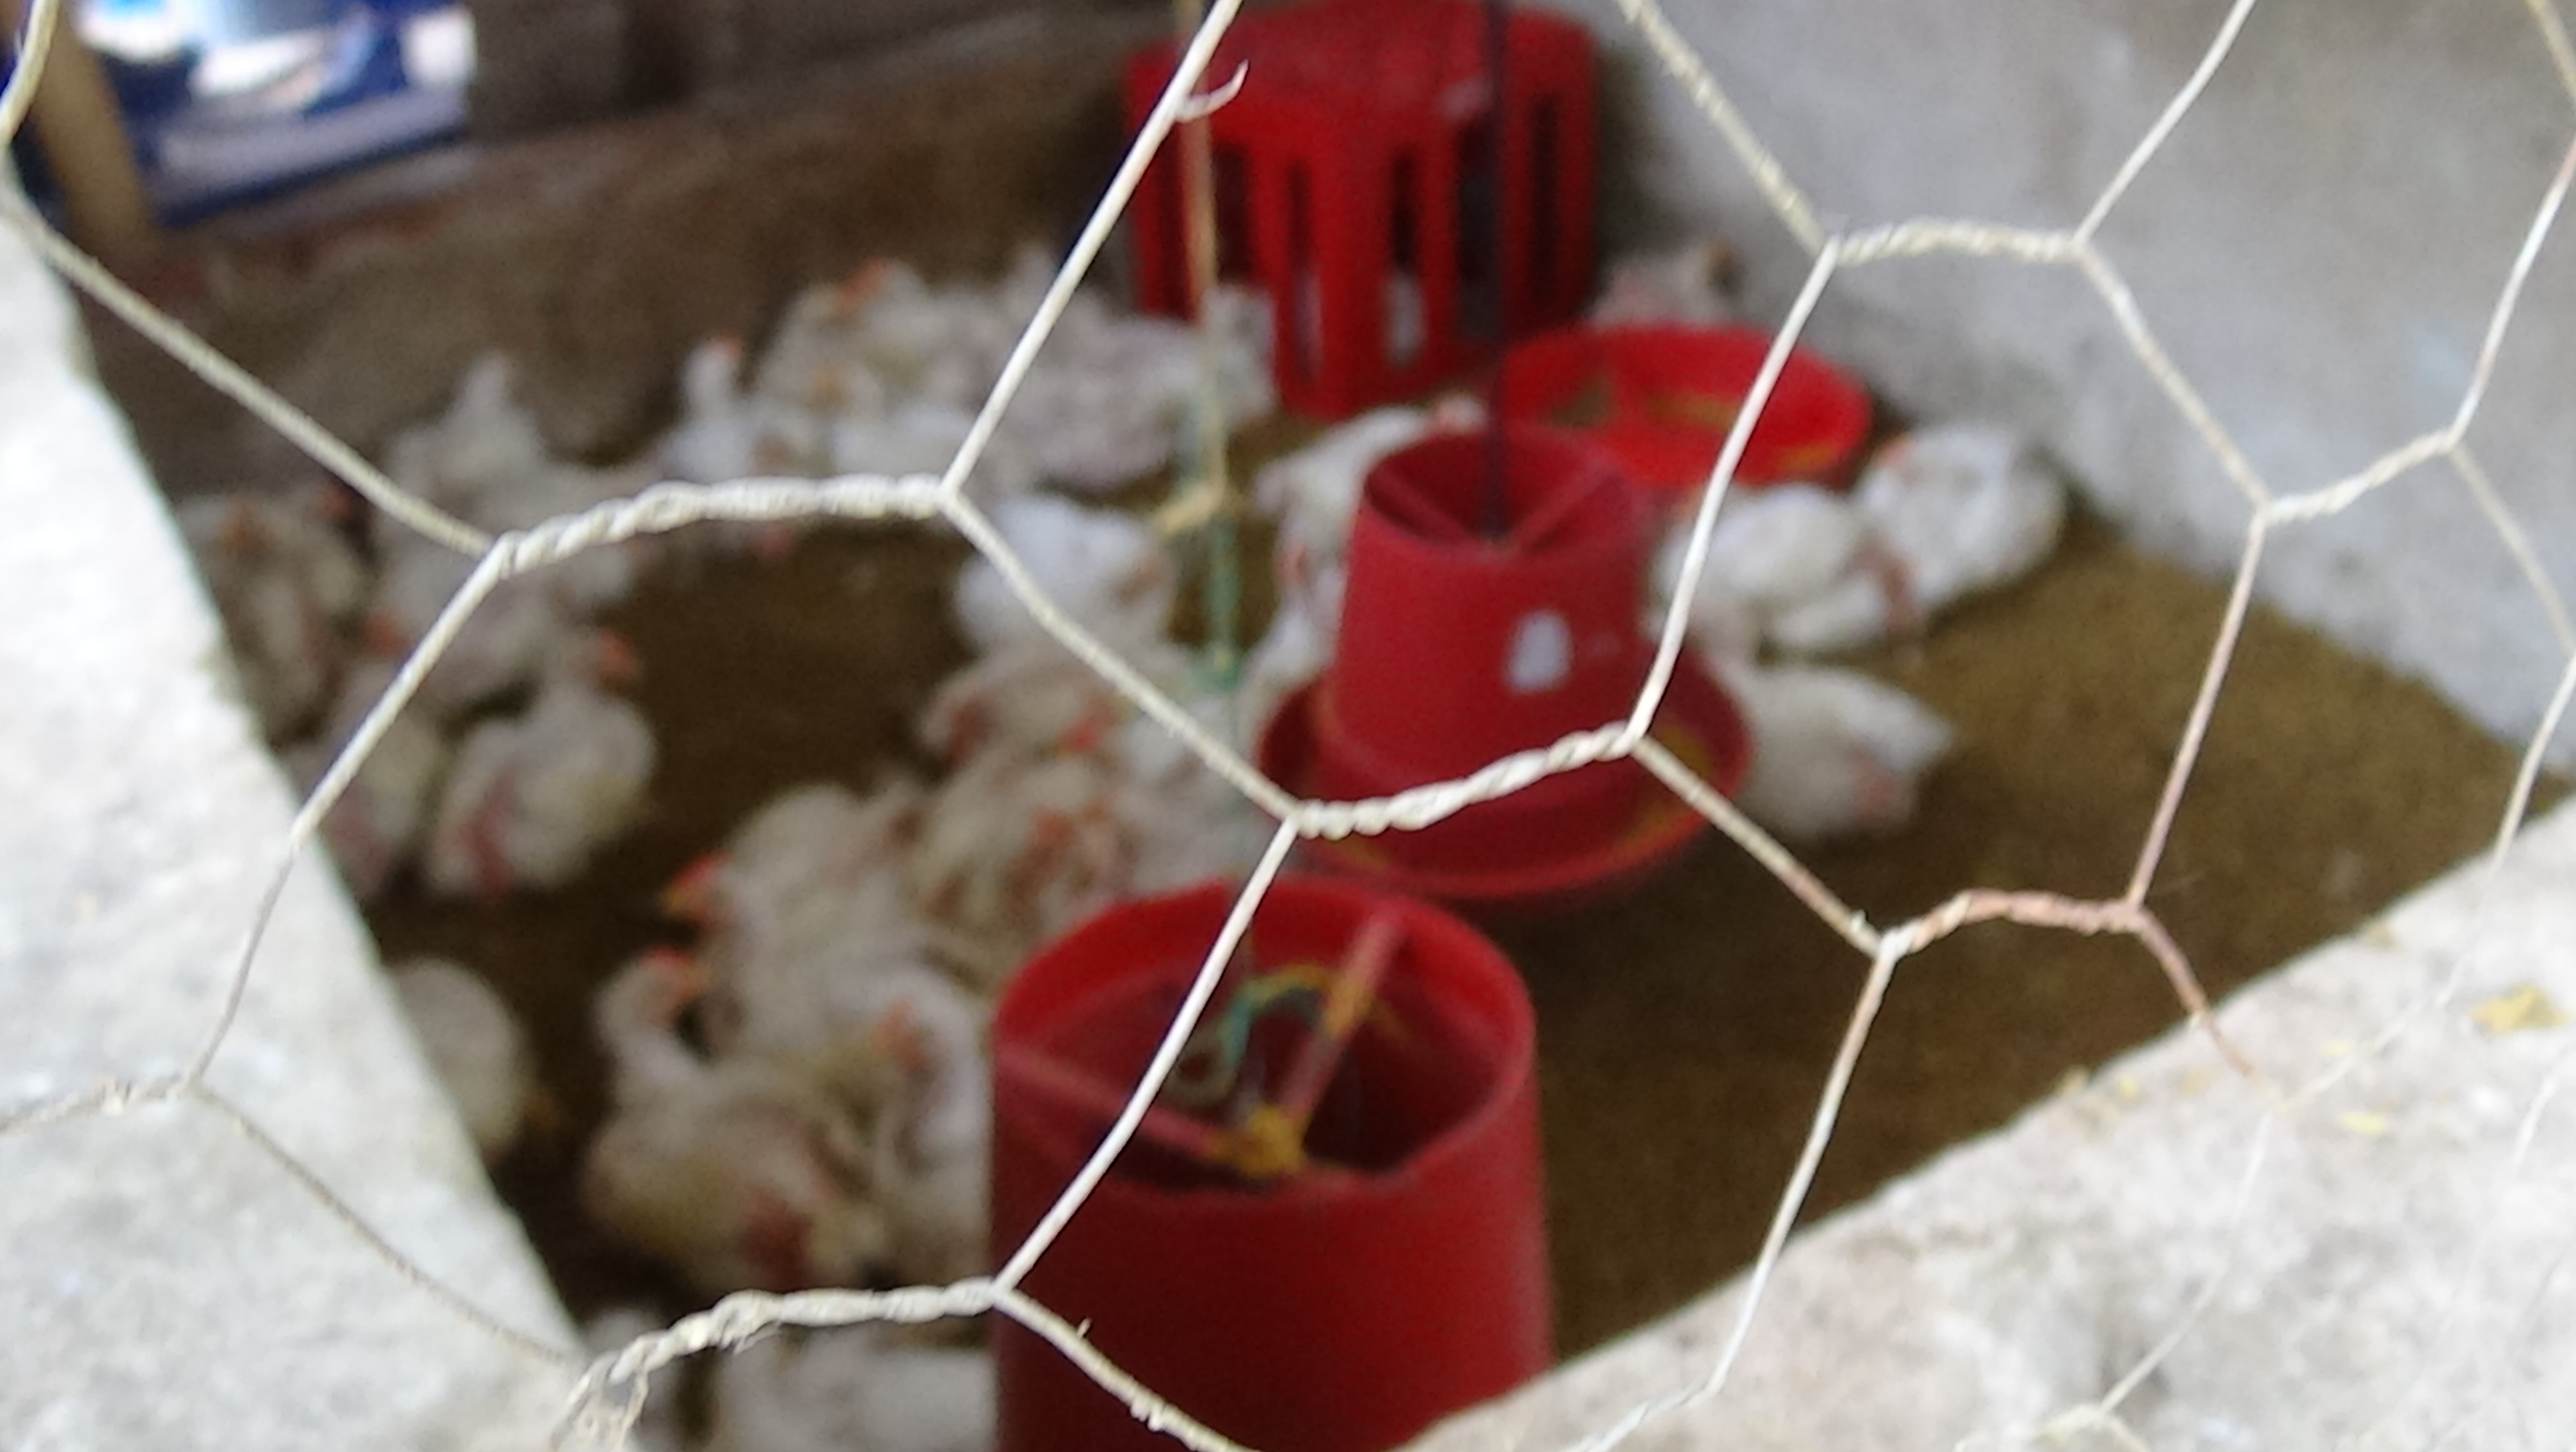Pollos: (563, 947, 828, 1284), (855, 947, 1044, 1259), (437, 597, 646, 859), (1672, 657, 1937, 852), (1265, 372, 1513, 574), (908, 476, 1192, 639), (1874, 384, 2070, 613), (421, 324, 566, 510), (182, 478, 304, 643), (672, 338, 782, 494), (662, 836, 814, 915), (265, 441, 377, 537), (996, 790, 1099, 882), (1033, 689, 1166, 756), (835, 244, 934, 324), (752, 262, 851, 342)
